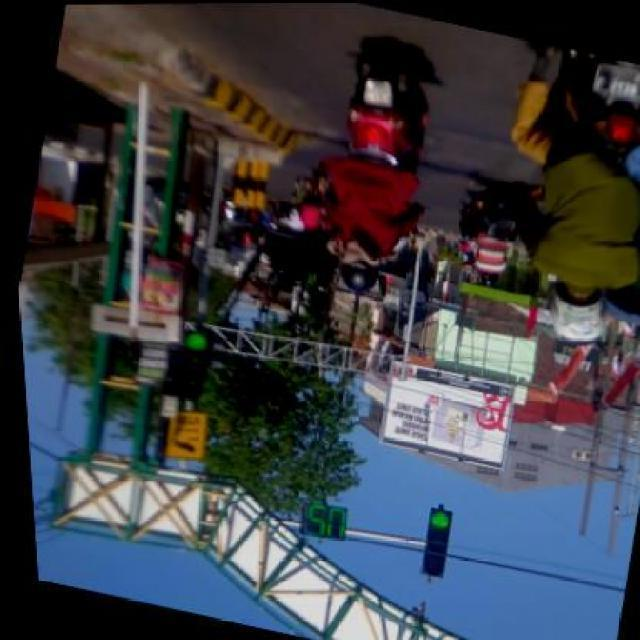green_light: (162, 327, 209, 399), (420, 503, 450, 575)
